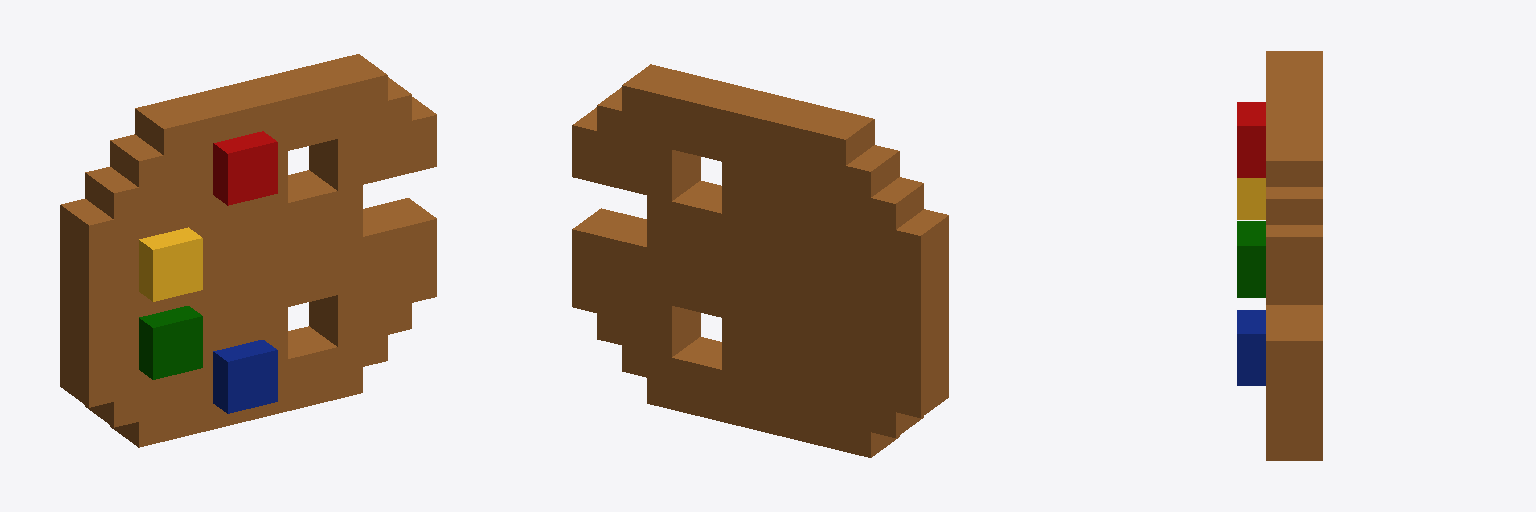
3 views of the same model, side by side, from view 1: azimuth 30°, elevation 25°; view 2: azimuth 150°, elevation 25°; view 3: azimuth 270°, elevation 25° (orthographic).
Visible parts, largest first — view 1: object 1; view 2: object 1; view 3: object 1.
Boxes of the visible parts, x1,y1,x2,y2 form: object 1: [60, 54, 436, 447]; object 1: [572, 64, 948, 457]; object 1: [1237, 51, 1322, 460].
Bounding box in the file's own units: 1.4 × 1.2 × 0.3.
Materials: 1 (1 with a texture image).